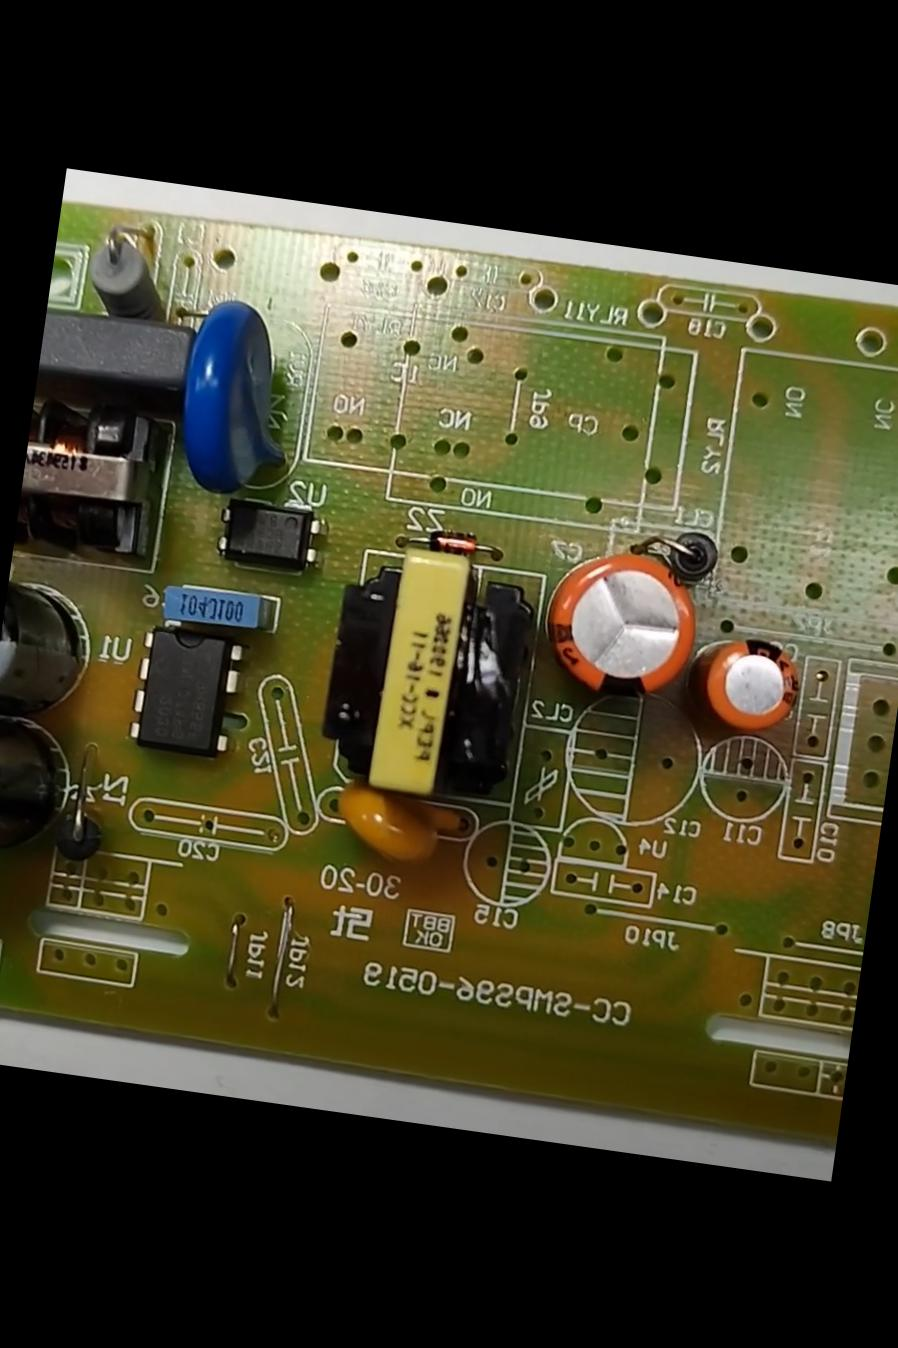Cap1: (527, 536, 712, 716)
Cap2: (687, 619, 808, 750)
Cap3: (0, 565, 110, 729)
Cap4: (0, 703, 92, 878)
MOSFET: (117, 604, 264, 781)
Mov: (152, 285, 312, 517)
Resistor: (68, 220, 186, 329)
Transformer: (313, 521, 556, 835), (12, 378, 170, 575)
